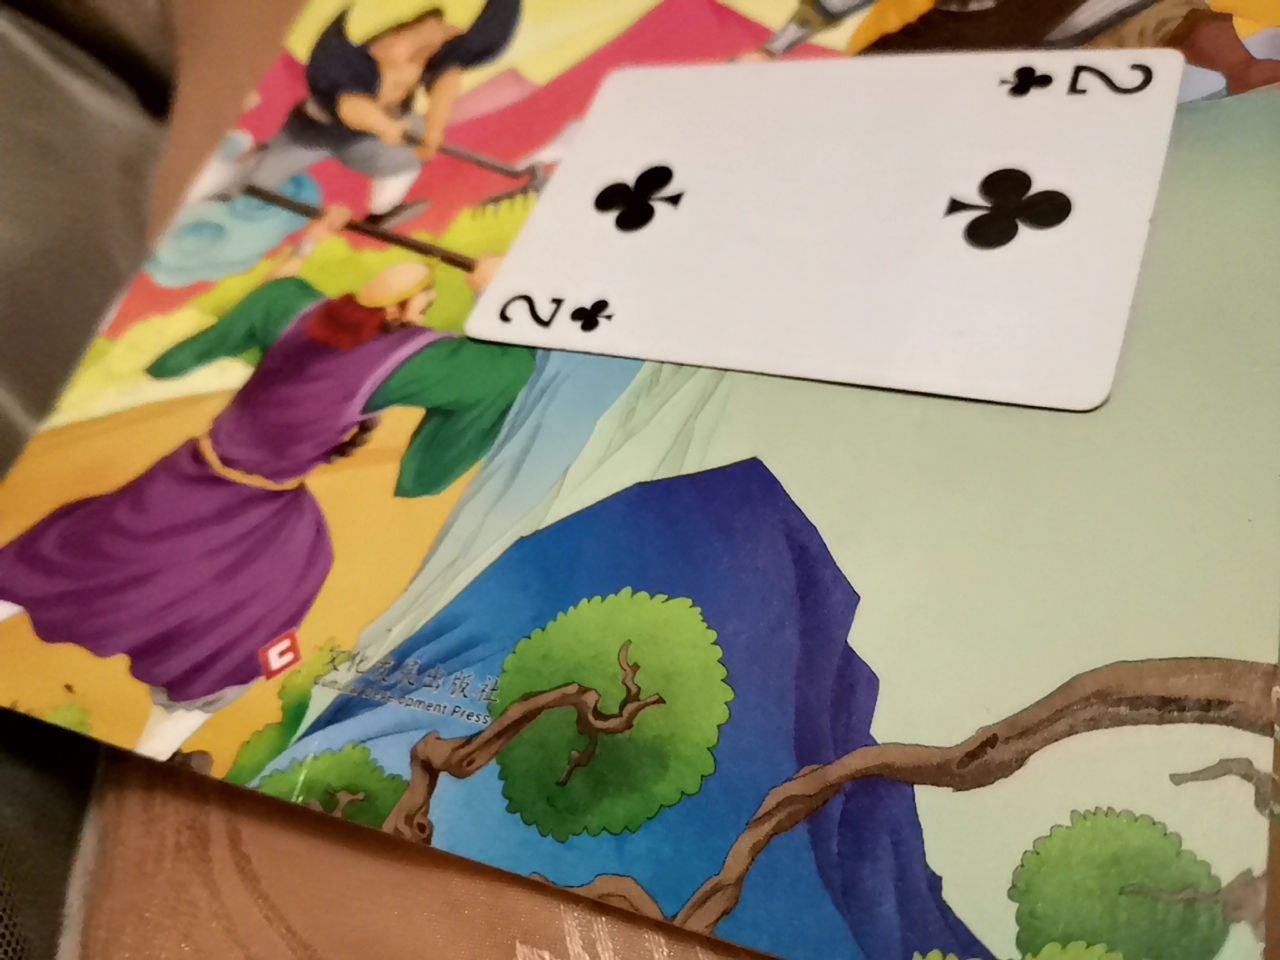mh 2: (436, 84, 1113, 468)
